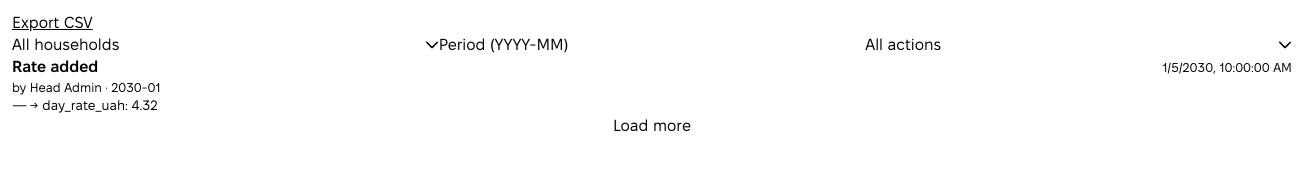
Test: AuditLogPanel › loads the next page with the cursor and hides the button on the last page
The image size is (1304, 191).
Click the button with class "audit-log__more": (652, 126) [12,115,1292,137]
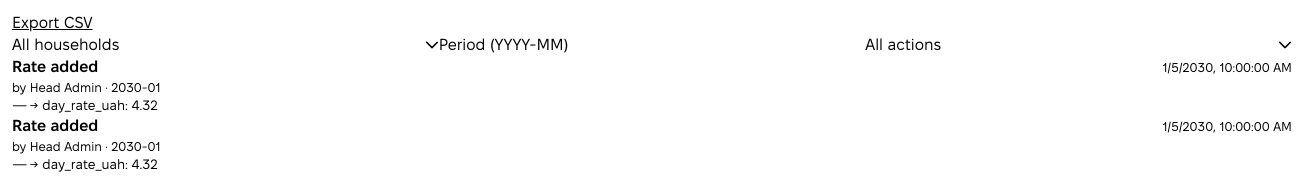
Result: the number of list items with class "audit-entry" is 2 at [12,56,1292,115]; [12,115,1292,174]
